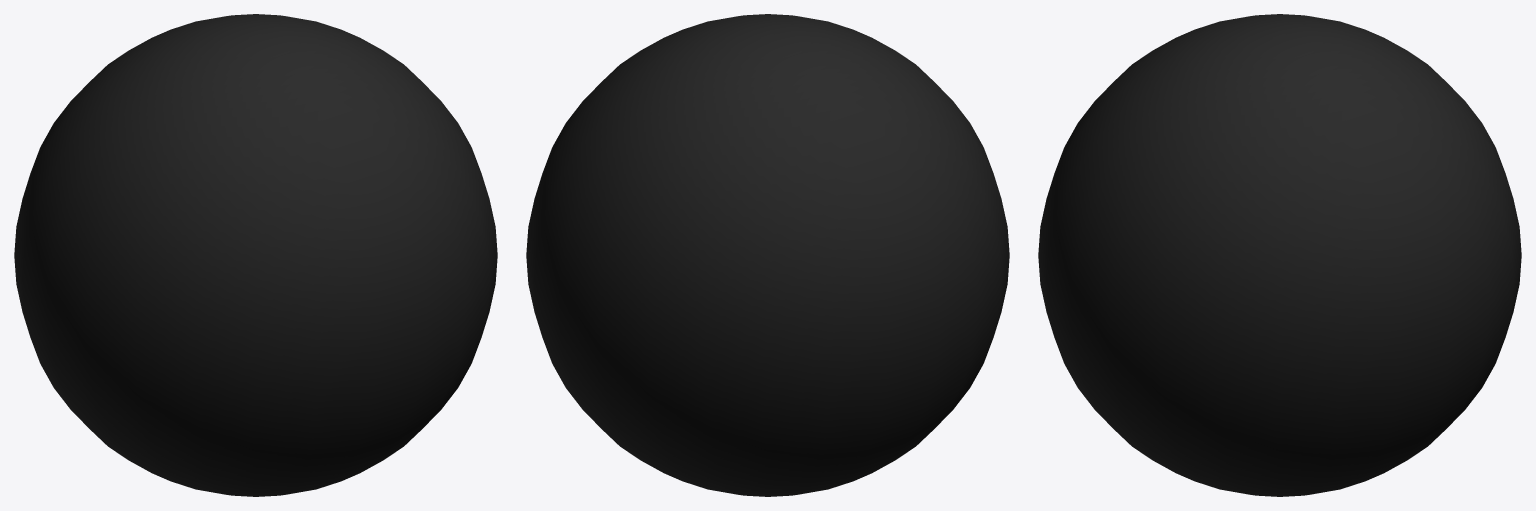
File: bola de canhao 1.fbx
3 renders of one model, left to right at view 1: azimuth 30°, elevation 25°; view 2: azimuth 150°, elevation 25°; view 3: azimuth 270°, elevation 25°, orthographic.
Parts seen in each view (by area): view 1: Sphere; view 2: Sphere; view 3: Sphere.
Boxes of the visible parts, x1=… form: Sphere: x1=14, y1=14, x2=497, y2=496; Sphere: x1=526, y1=14, x2=1009, y2=496; Sphere: x1=1038, y1=14, x2=1521, y2=496.
Bounding box in the file's own units: 200 × 200 × 200.
1 material, 1 textured.
